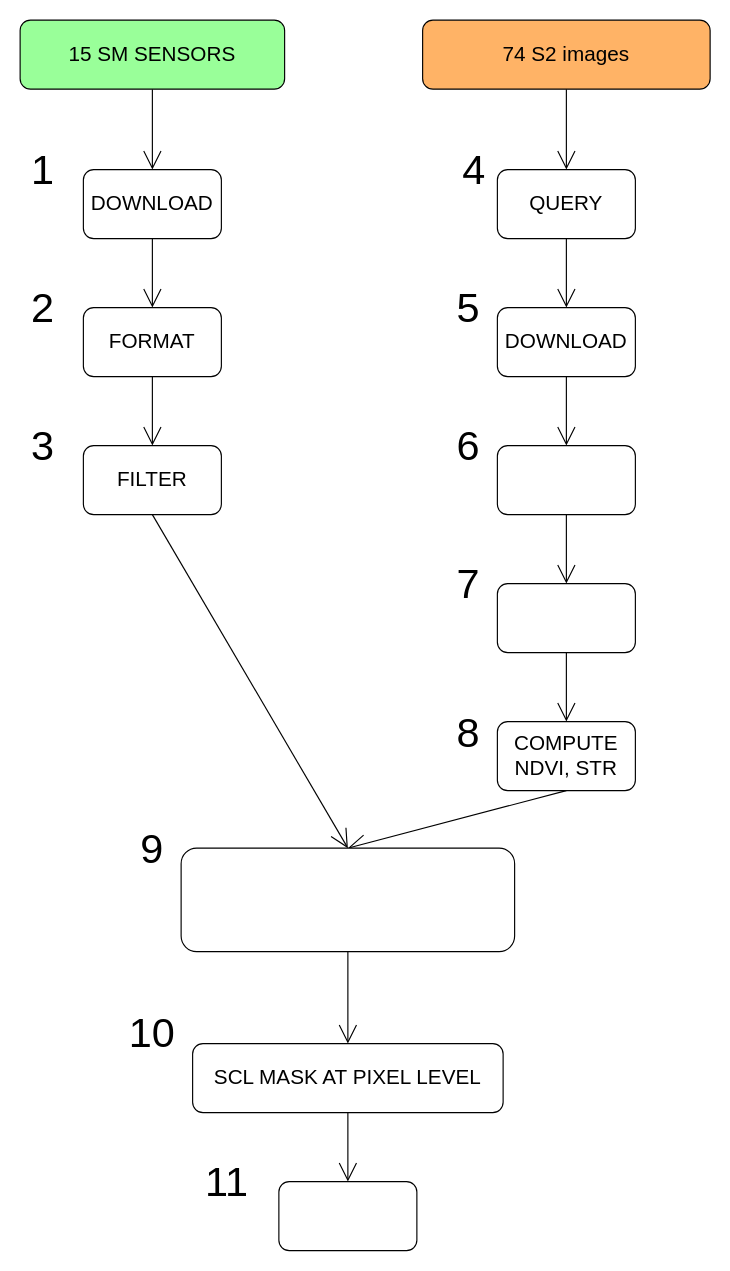
The diagram is 730 pixels wide and 1271 high, and some of its shapes have lost their labels. Each missing label, with the box of its shape:
FIT OPTRAM: (278, 1180, 417, 1251)
MATCH IN SITU READINGS WITH NDVI, STR VALUES: (180, 847, 515, 952)
RESAMPLE: (496, 582, 635, 653)
WARP: (496, 444, 635, 515)
